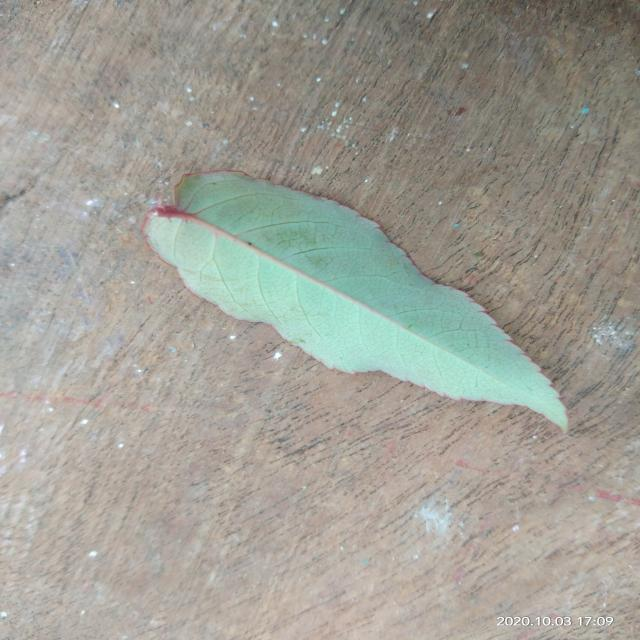rose: (143, 171, 567, 429)
